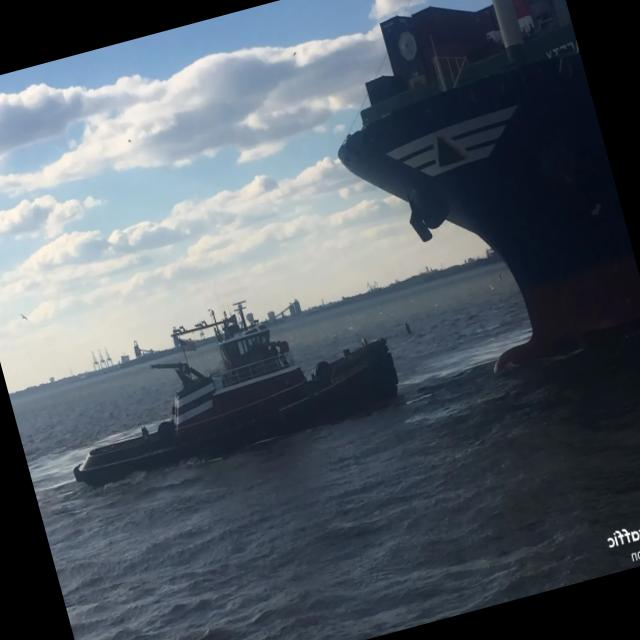Tug: (74, 302, 398, 485)
